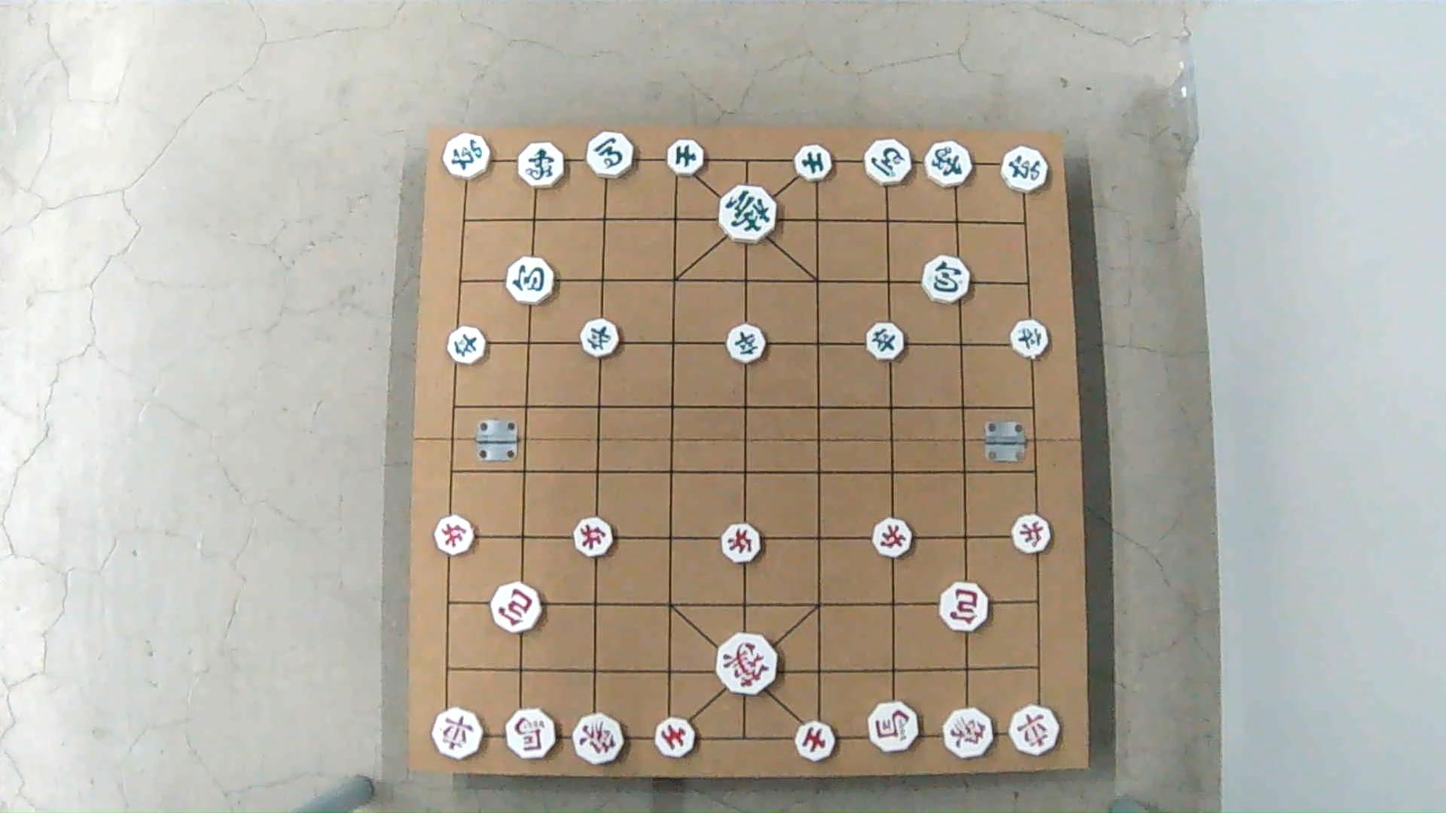cha_green: (442, 132, 491, 181), (1003, 147, 1047, 193)
cha_red: (431, 711, 485, 759), (1007, 706, 1062, 752)
jol_green: (723, 324, 768, 359), (579, 321, 624, 356), (448, 329, 490, 364), (1008, 323, 1049, 358), (865, 326, 906, 361)
jol_red: (720, 520, 764, 562), (871, 517, 916, 557), (1011, 513, 1055, 553), (572, 518, 616, 557), (432, 515, 477, 550)
ma_green: (585, 133, 636, 177), (864, 140, 914, 183)
ma_red: (505, 711, 560, 758), (865, 704, 919, 751)
po_green: (505, 256, 560, 300), (918, 257, 972, 300)
po_red: (940, 584, 994, 629), (489, 587, 543, 632)
sa_green: (794, 145, 834, 179), (664, 143, 705, 175)
sa_red: (651, 719, 700, 756), (793, 721, 838, 760)
sang_green: (926, 141, 972, 190), (515, 142, 566, 186)
sang_red: (941, 705, 993, 757), (575, 717, 631, 765)
wang_green: (717, 187, 778, 239)
wang_red: (715, 638, 778, 695)
